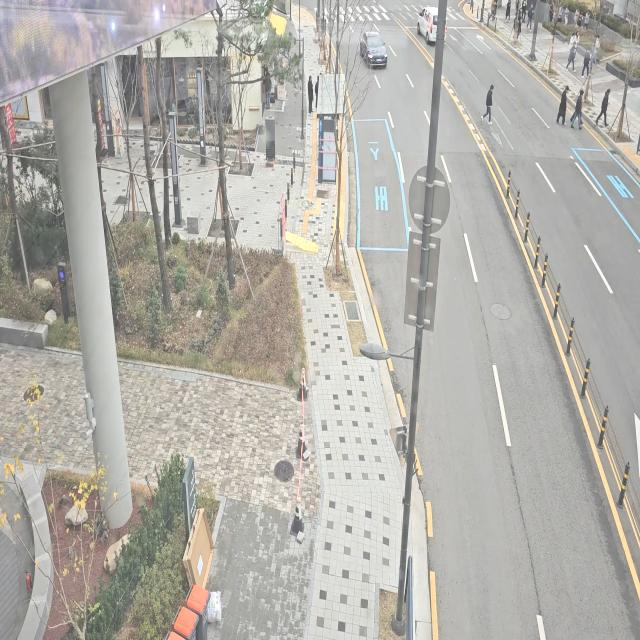Car: (412, 0, 458, 46), (358, 29, 391, 75)
